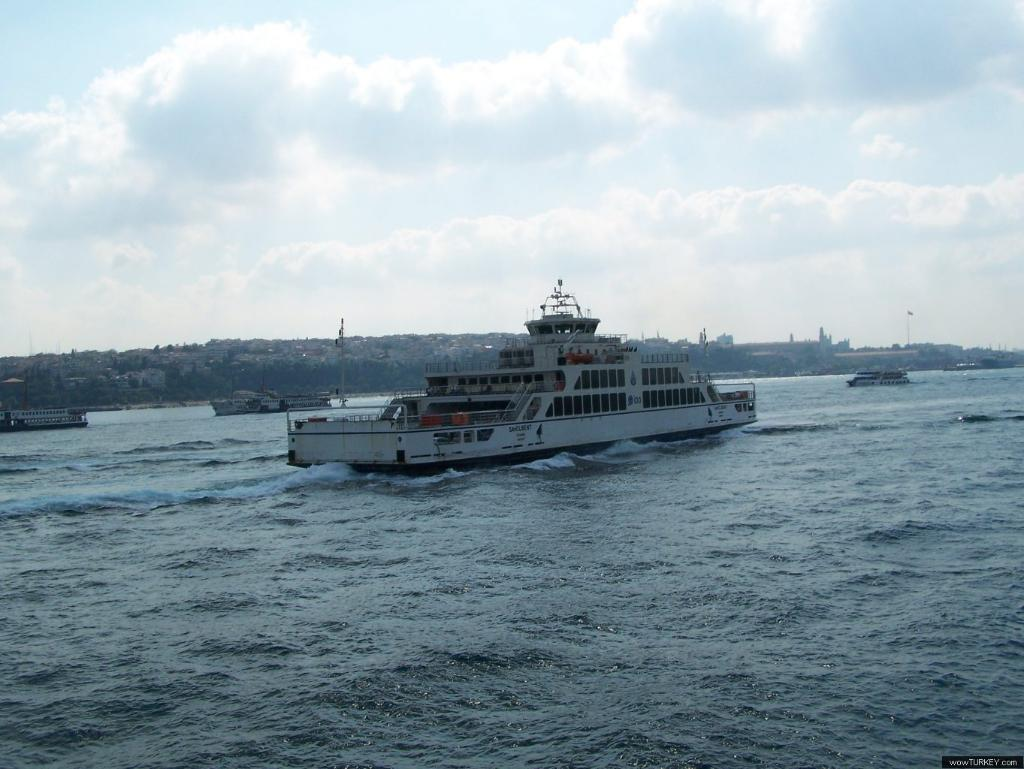PassengerShip: (283, 277, 767, 483), (846, 363, 912, 395)
